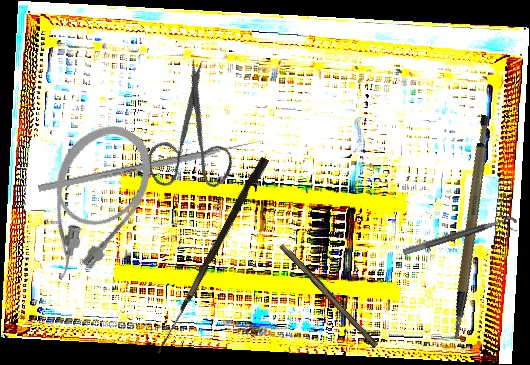Cannula: (10, 109, 169, 296)
Fixation Ring: (402, 214, 520, 265)
Hook Surgical: (156, 154, 270, 359)
Iris Scissors: (110, 55, 265, 213)
Pusher: (37, 137, 266, 193)
Scalpel Handle: (416, 113, 521, 340), (277, 241, 382, 349)
